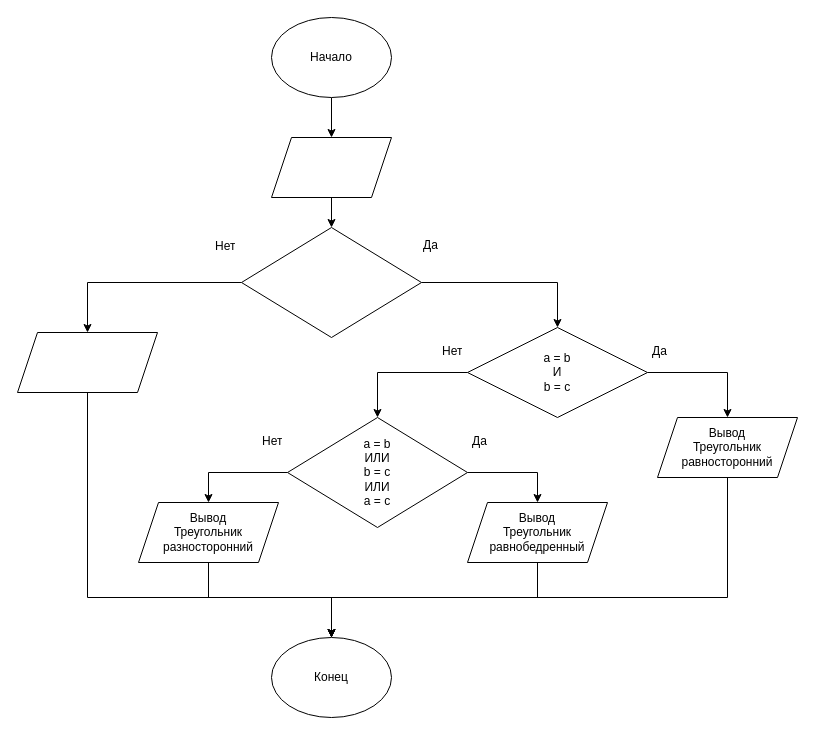
The diagram is 815 pixels wide and 735 high, and some of its shapes have lost their labels. The centre of each missing label's shape, as x and y in pixels:
"a + b > c И b + c > a И a + c > b" goes at point (331, 282).
"Ввод a, b, c" goes at point (331, 167).
"Вывод Треугольника нет" goes at point (87, 362).
